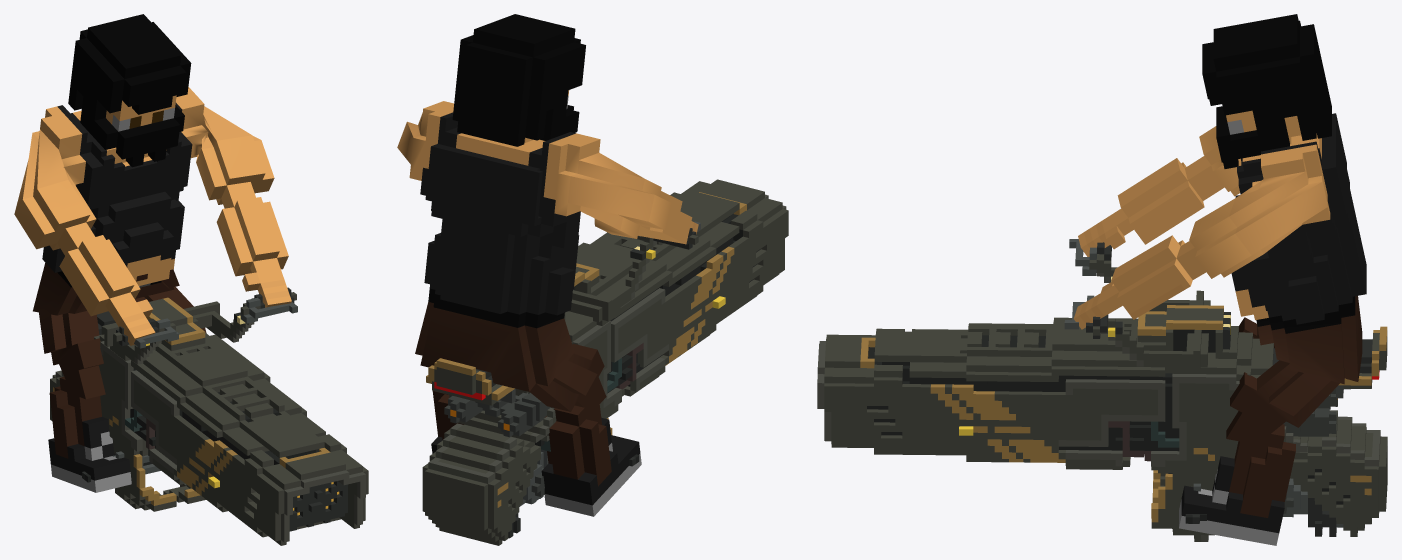
File: OnGunBike.obj
3 renders of one model, left to right at view 1: azimuth 30°, elevation 25°; view 2: azimuth 150°, elevation 25°; view 3: azimuth 270°, elevation 25°, orthographic. The views are drawn at different scales.
Bounding box in the file's own units: 4.26 × 7.72 × 8.03.
Materials: 2 (2 with a texture image).
